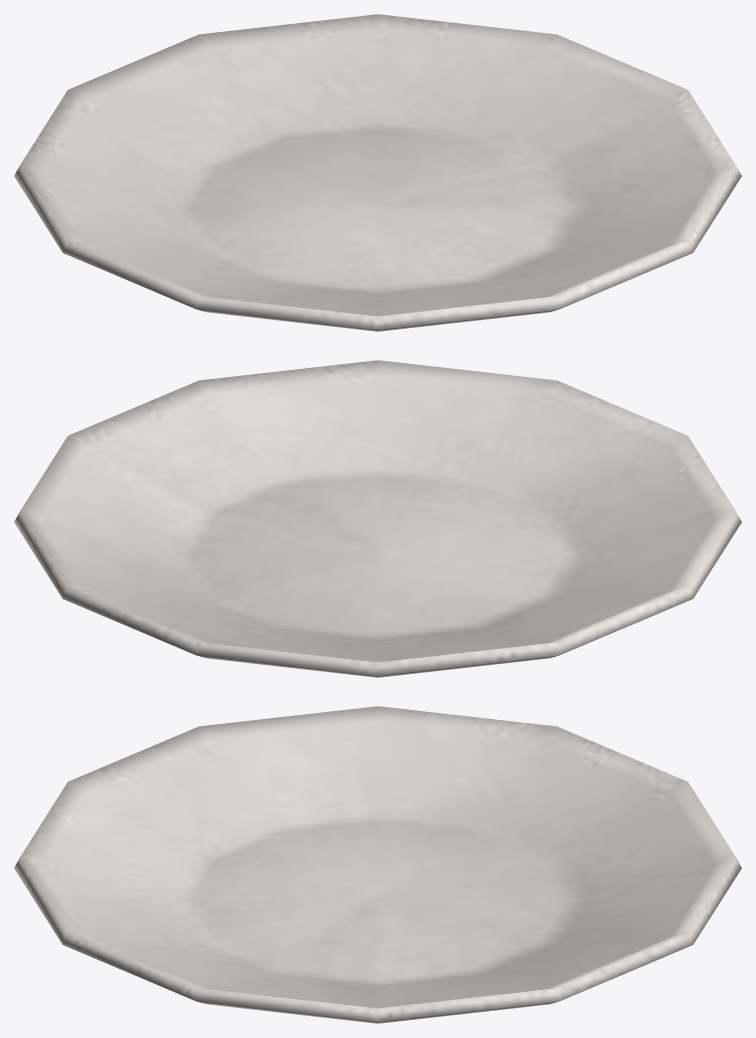
Rendered from plate_lod1_web.glb.
3 renders of one model, top to bottom at view 1: azimuth 30°, elevation 25°; view 2: azimuth 150°, elevation 25°; view 3: azimuth 270°, elevation 25°, orthographic.
Parts seen in each view (by area): view 1: Plate_Body; view 2: Plate_Body; view 3: Plate_Body.
Part boxes in pixels (left/top/right/bottom): Plate_Body: left=14, top=14, right=741, bottom=331; Plate_Body: left=14, top=360, right=741, bottom=677; Plate_Body: left=14, top=706, right=741, bottom=1023.
Bounding box in the file's own units: 0.25 × 0.025 × 0.25.
Materials: 1 (1 with a texture image).
